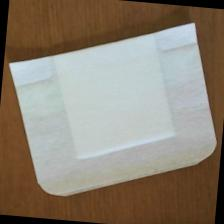Cut: (1, 2, 224, 216)
